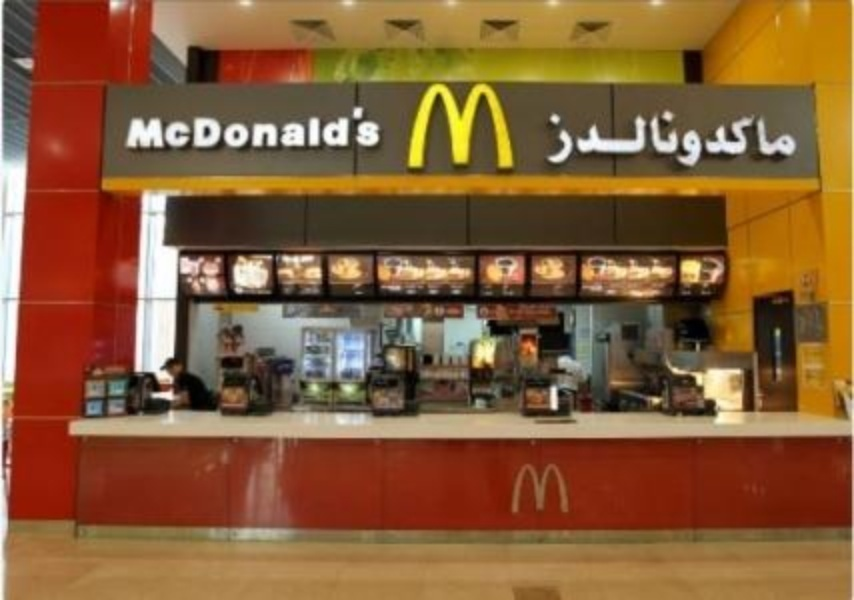text: (417, 81, 432, 173), (433, 81, 448, 173), (449, 81, 464, 173), (465, 81, 480, 173), (481, 81, 496, 173), (497, 81, 512, 173), (403, 81, 416, 173), (545, 110, 560, 169), (561, 110, 576, 169), (577, 110, 592, 169), (593, 110, 608, 169), (609, 110, 624, 169), (625, 110, 640, 169), (641, 110, 656, 169), (657, 110, 672, 169), (673, 110, 688, 169), (689, 110, 704, 169), (705, 110, 720, 169), (721, 110, 736, 169), (737, 110, 752, 169), (753, 110, 768, 169), (769, 110, 784, 169), (513, 461, 528, 519), (529, 461, 544, 519), (545, 461, 560, 519), (561, 461, 575, 519), (369, 107, 385, 155), (129, 107, 144, 155), (145, 107, 160, 155), (161, 107, 176, 155), (177, 107, 192, 155), (193, 107, 208, 155), (209, 107, 224, 155), (225, 107, 240, 155), (241, 107, 256, 155), (257, 107, 272, 155), (273, 107, 288, 155), (289, 107, 304, 155), (305, 107, 320, 155), (321, 107, 336, 155), (337, 107, 352, 155), (353, 107, 368, 155), (785, 110, 797, 169), (513, 81, 519, 173), (123, 107, 128, 155), (509, 461, 512, 519)
